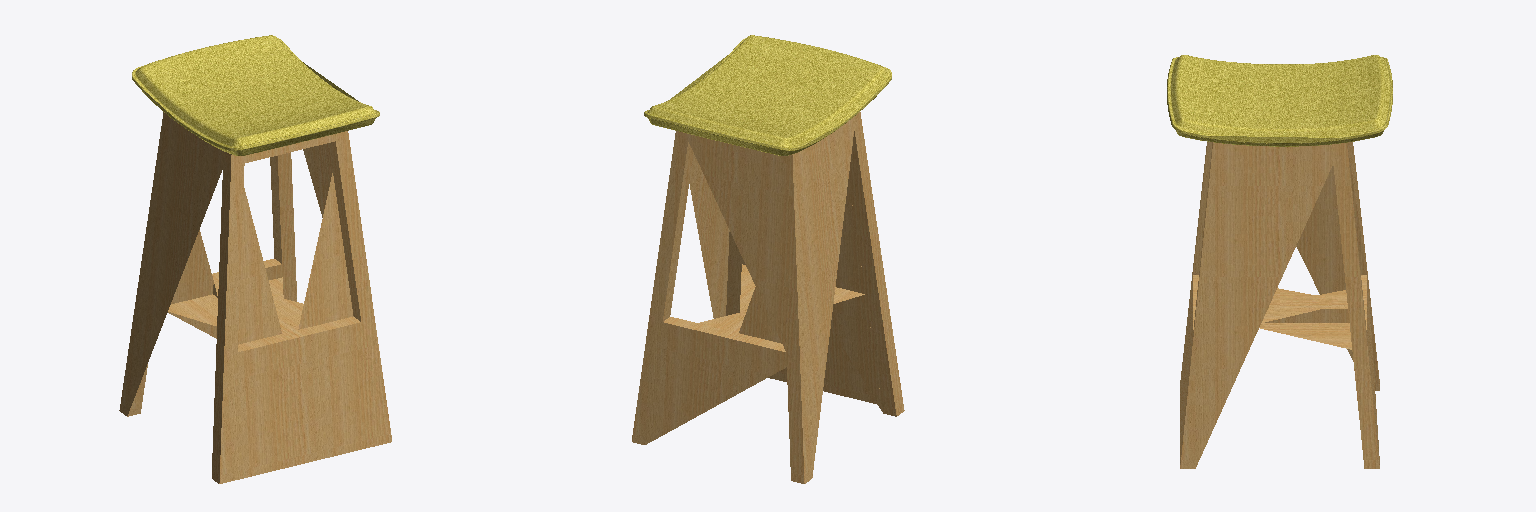
The picture shows the model from 3 angles: view 1: azimuth 30°, elevation 25°; view 2: azimuth 150°, elevation 25°; view 3: azimuth 270°, elevation 25°; orthographic projection.
Parts seen in each view (by area): view 1: Mesh1 Stool1 Model, Mesh2 Stool1 Model; view 2: Mesh1 Stool1 Model, Mesh2 Stool1 Model; view 3: Mesh1 Stool1 Model, Mesh2 Stool1 Model.
Part boxes in pixels (left/top/right/bottom): Mesh1 Stool1 Model: left=119, top=112, right=391, bottom=483; Mesh2 Stool1 Model: left=132, top=35, right=379, bottom=155; Mesh1 Stool1 Model: left=632, top=112, right=904, bottom=483; Mesh2 Stool1 Model: left=644, top=35, right=891, bottom=155; Mesh1 Stool1 Model: left=1180, top=142, right=1379, bottom=468; Mesh2 Stool1 Model: left=1167, top=55, right=1392, bottom=146.
Size of the model in its own units: 0.4117 by 0.7753 by 0.4665.
Materials: 3 (2 with a texture image).